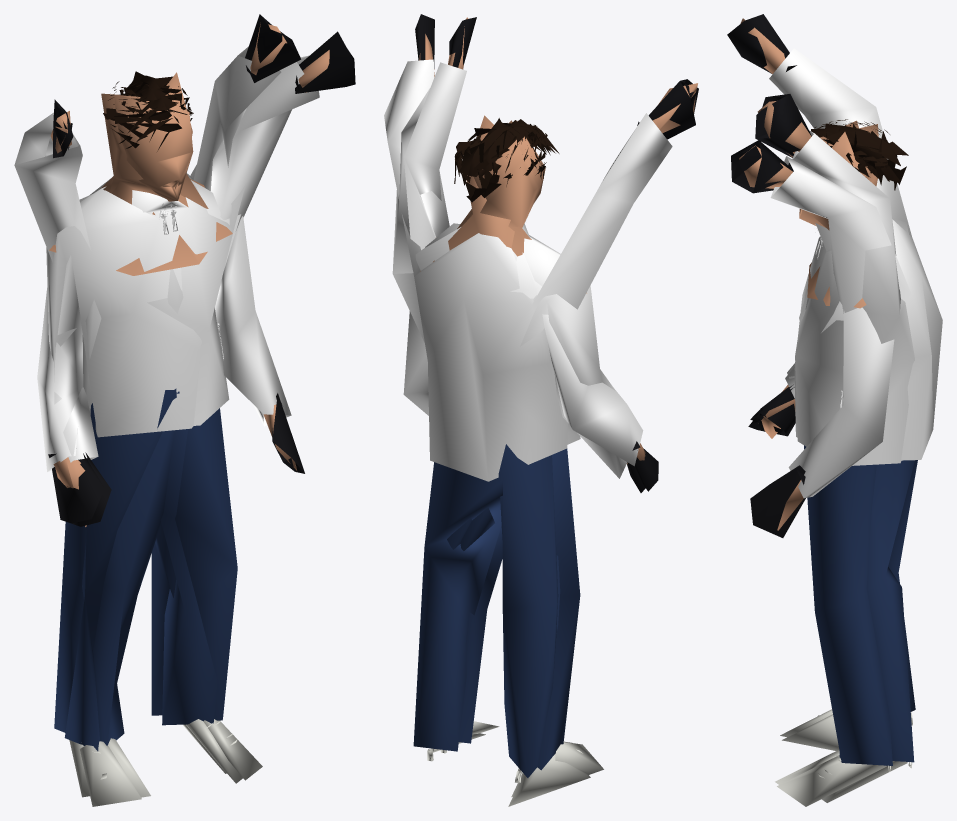
The model's file is fans_lo.glb.
3 views of the same model, side by side, from view 1: azimuth 30°, elevation 25°; view 2: azimuth 150°, elevation 25°; view 3: azimuth 270°, elevation 25° (orthographic). The views are drawn at different scales.
Visible parts, largest first — view 1: Fan_idle, Fan_pump, Fan_cheer; view 2: Fan_cheer, Fan_idle, Fan_pump; view 3: Fan_pump, Fan_cheer, Fan_idle.
Boxes of the visible parts, <box> form: Fan_idle: <box>46,81,304,806</box>; Fan_pump: <box>37,14,300,797</box>; Fan_cheer: <box>14,31,355,797</box>; Fan_cheer: <box>384,14,698,806</box>; Fan_idle: <box>403,120,645,774</box>; Fan_pump: <box>392,17,658,796</box>; Fan_pump: <box>750,94,914,806</box>; Fan_cheer: <box>727,14,942,802</box>; Fan_idle: <box>748,119,897,784</box>.
Bounding box in the file's own units: 0.8312 × 2.06 × 0.5631.
